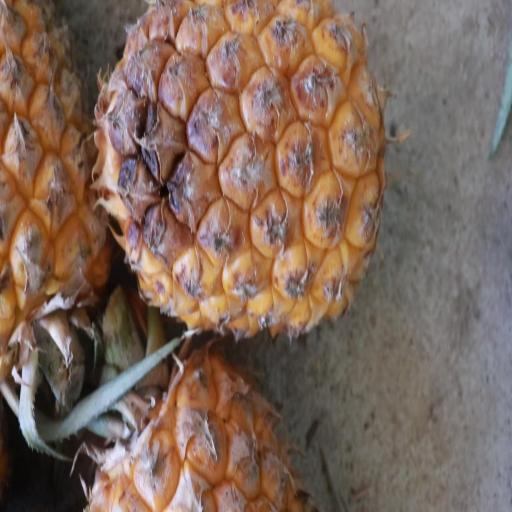Pineapple - v8 v1: (85, 0, 393, 349)
